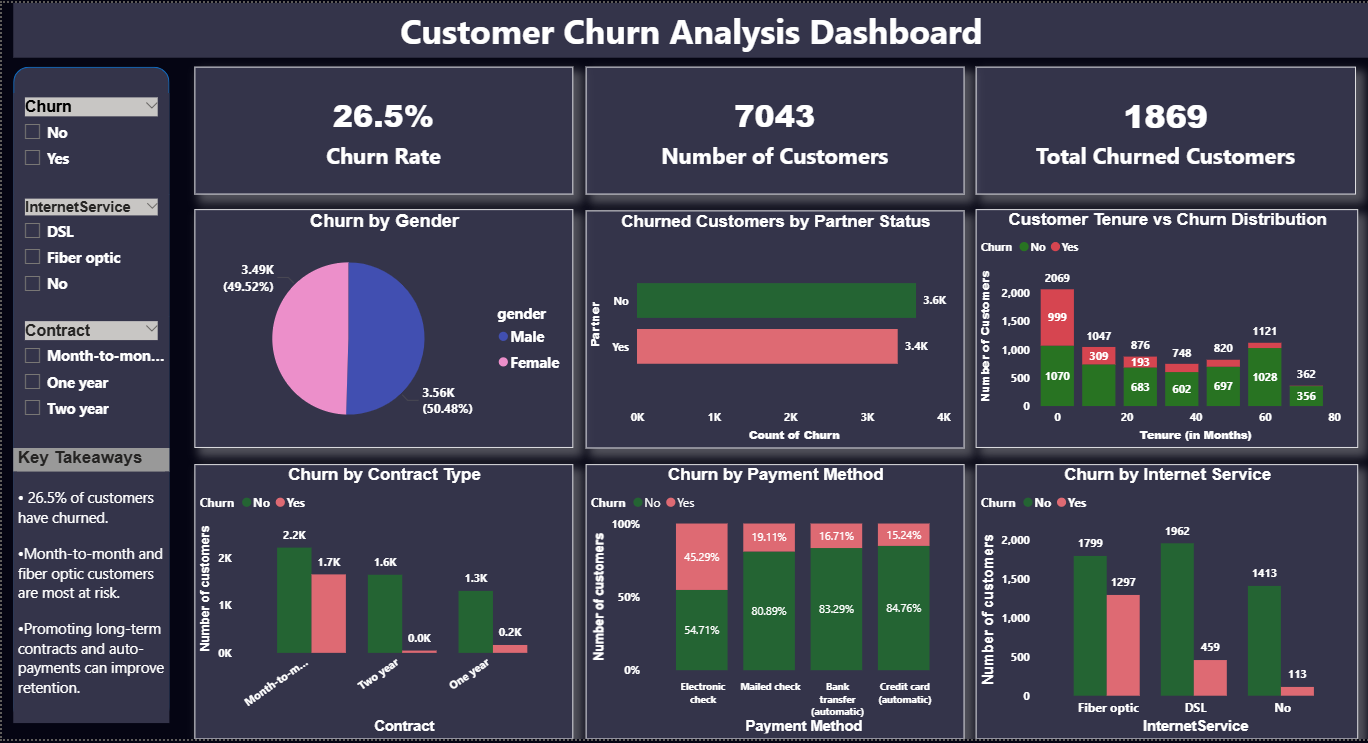

The page's visual inventory and layout, read from the dashboard file:
{"tool":"powerbi","page":{"name":"Home","canvas":[1500,807],"ordinal":2},"visuals":[{"type":"textbox","box":[12.3,0,1487.1,60.3],"z":0},{"type":"card","fields":{"Values":["Telco_Customer_Churn_Dataset  (2).Total Churned Customers"]},"box":[1067.7,69.9,416.7,139.8],"z":1000},{"type":"card","fields":{"Values":["CountNonNull(Telco_Customer_Churn_Dataset  (2).customerID)"]},"box":[640.1,69.9,415.3,139.8],"z":2000},{"type":"card","fields":{"Values":["Telco_Customer_Churn_Dataset  (2).Churn Rate"]},"box":[211.1,69.9,415.3,139.8],"z":3000},{"type":"clusteredBarChart","title":"Churned Customers by Partner Status","fields":{"Y":["CountNonNull(Telco_Customer_Churn_Dataset  (2).Churn)"],"Category":["Telco_Customer_Churn_Dataset  (2).Partner"]},"box":[640.1,227.5,415.3,260.4],"z":5000},{"type":"columnChart","title":"Customer Tenure vs Churn Distribution","fields":{"Category":["Telco_Customer_Churn_Dataset  (2).tenure (bins)"],"Y":["CountNonNull(Telco_Customer_Churn_Dataset  (2).customerID)"],"Series":["Telco_Customer_Churn_Dataset  (2).Churn"]},"box":[1067.7,226.1,419.4,261.8],"z":5001},{"type":"pieChart","title":"Churn by Gender","fields":{"Category":["Telco_Customer_Churn_Dataset  (2).gender"],"Y":["CountNonNull(Telco_Customer_Churn_Dataset  (2).Churn)"]},"box":[211.1,226.1,415.3,261.8],"z":5002},{"type":"shape","box":[12.3,69.9,171.3,719.6],"z":5003},{"type":"slicer","fields":{"Values":["Telco_Customer_Churn_Dataset  (2).Churn"]},"box":[12.3,98.7,171.3,111],"z":5004},{"type":"slicer","fields":{"Values":["Telco_Customer_Churn_Dataset  (2).InternetService"]},"box":[12.3,209.7,171.3,134.3],"z":5005},{"type":"slicer","fields":{"Values":["Telco_Customer_Churn_Dataset  (2).Contract"]},"box":[12.3,344,171.3,143.9],"z":5006},{"type":"clusteredColumnChart","title":"Churn by Contract Type","fields":{"Category":["Telco_Customer_Churn_Dataset  (2).Contract"],"Y":["CountNonNull(Telco_Customer_Churn_Dataset  (2).customerID)"],"Series":["Telco_Customer_Churn_Dataset  (2).Churn"]},"box":[211.1,505.7,415.3,301.5],"z":5007},{"type":"hundredPercentStackedColumnChart","title":"Churn by Payment Method","fields":{"Category":["Telco_Customer_Churn_Dataset  (2).Payment Method"],"Y":["CountNonNull(Telco_Customer_Churn_Dataset  (2).customerID)"],"Series":["Telco_Customer_Churn_Dataset  (2).Churn"]},"box":[640.1,505.7,415.3,301.5],"z":5008},{"type":"clusteredColumnChart","title":"Churn by Internet Service","fields":{"Category":["Telco_Customer_Churn_Dataset  (2).InternetService"],"Y":["CountNonNull(Telco_Customer_Churn_Dataset  (2).customerID)"],"Series":["Telco_Customer_Churn_Dataset  (2).Churn"]},"box":[1067.7,505.7,419.4,301.5],"z":5009},{"type":"textbox","title":"Key Takeaways","box":[12.3,487.9,171.3,301.5],"z":5010}]}

Visuals, with their boxes in screenshot pixels (x1, y1, x2, y2), scaled from the page's 1500x807 canvas onto the 1368x743 screenshot:
textbox: bbox(11, 0, 1367, 56)
card - Telco_Customer_Churn_Dataset  (2).Total Churned Customers: bbox(974, 64, 1354, 193)
card - CountNonNull(Telco_Customer_Churn_Dataset  (2).customerID): bbox(584, 64, 963, 193)
card - Telco_Customer_Churn_Dataset  (2).Churn Rate: bbox(193, 64, 571, 193)
"Churned Customers by Partner Status" clusteredBarChart: bbox(584, 209, 963, 449)
"Customer Tenure vs Churn Distribution" columnChart: bbox(974, 208, 1356, 449)
"Churn by Gender" pieChart: bbox(193, 208, 571, 449)
shape: bbox(11, 64, 167, 727)
slicer - Telco_Customer_Churn_Dataset  (2).Churn: bbox(11, 91, 167, 193)
slicer - Telco_Customer_Churn_Dataset  (2).InternetService: bbox(11, 193, 167, 317)
slicer - Telco_Customer_Churn_Dataset  (2).Contract: bbox(11, 317, 167, 449)
"Churn by Contract Type" clusteredColumnChart: bbox(193, 466, 571, 742)
"Churn by Payment Method" hundredPercentStackedColumnChart: bbox(584, 466, 963, 742)
"Churn by Internet Service" clusteredColumnChart: bbox(974, 466, 1356, 742)
"Key Takeaways" textbox: bbox(11, 449, 167, 727)
